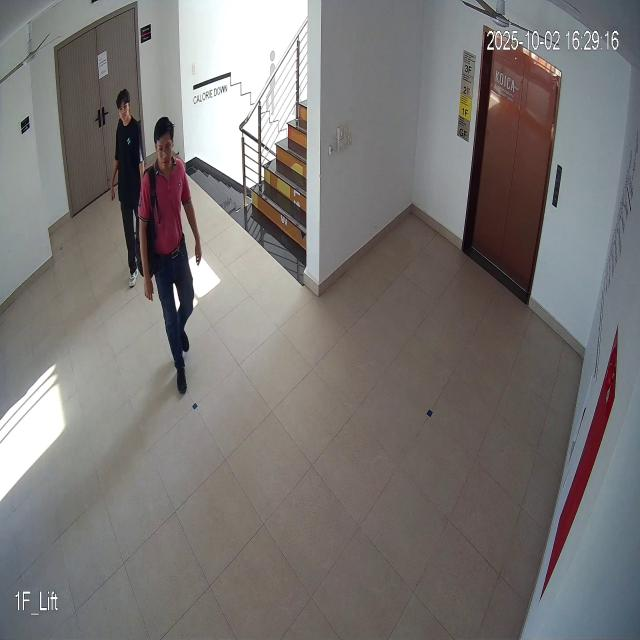face: (151, 112, 176, 174)
